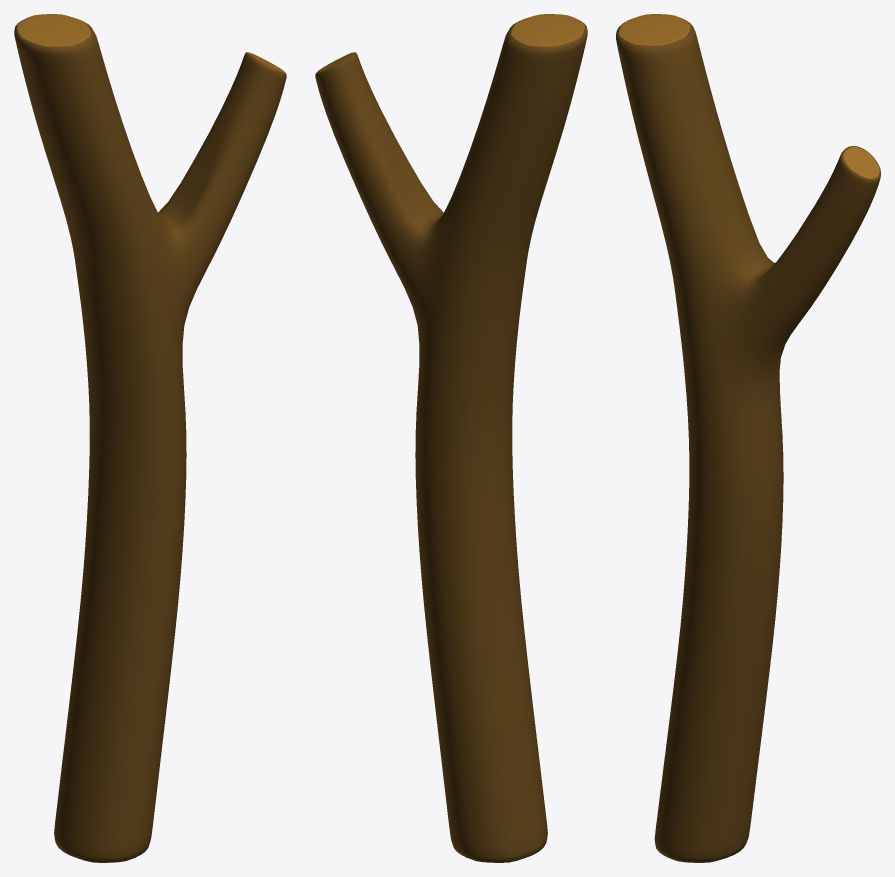
File: Stick.fbx
3 views of the same model, side by side, from view 1: azimuth 30°, elevation 25°; view 2: azimuth 150°, elevation 25°; view 3: azimuth 330°, elevation 25° (orthographic). The views are drawn at different scales.
Visible parts, largest first — view 1: Cylinder; view 2: Cylinder; view 3: Cylinder.
Part boxes in pixels (<box>): Cylinder: <box>14,14,286,862</box>; Cylinder: <box>315,14,587,862</box>; Cylinder: <box>616,14,880,862</box>.
Size of the model in its own units: 200 by 600 by 70.
